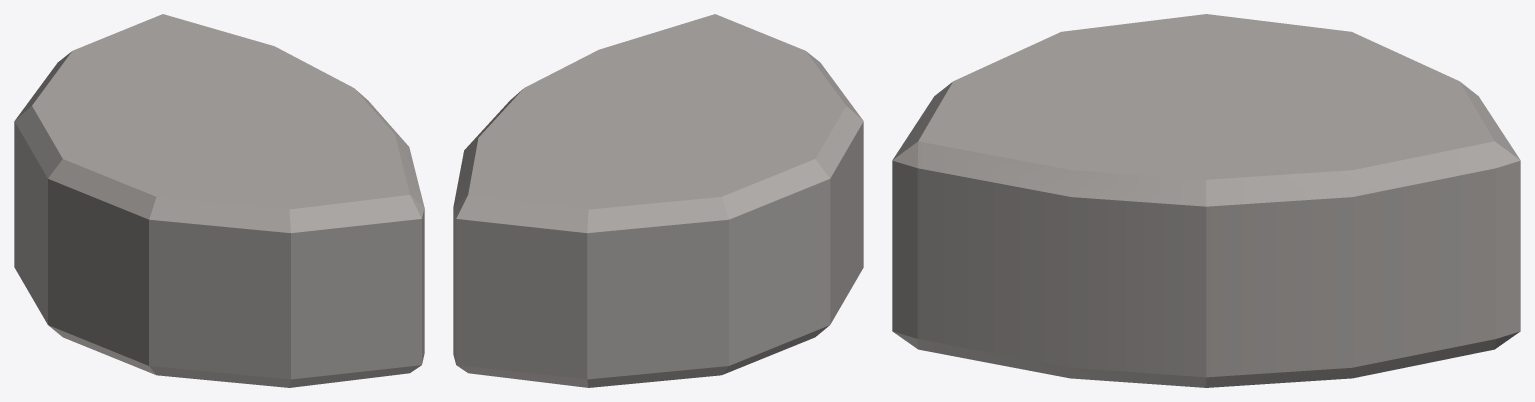
The model's file is SM_Prop_Barrier_06_End_01.fbx.
3 views of the same model, side by side, from view 1: azimuth 30°, elevation 25°; view 2: azimuth 150°, elevation 25°; view 3: azimuth 270°, elevation 25° (orthographic). The views are drawn at different scales.
Visible parts, largest first — view 1: SM_Prop_Barrier_06_End_01; view 2: SM_Prop_Barrier_06_End_01; view 3: SM_Prop_Barrier_06_End_01.
Part boxes in pixels (x1,y1,x2,y2): SM_Prop_Barrier_06_End_01: [14, 14, 424, 387]; SM_Prop_Barrier_06_End_01: [453, 14, 863, 387]; SM_Prop_Barrier_06_End_01: [892, 14, 1520, 387].
Size of the model in its own units: 68.3 by 36.35 by 99.46.
